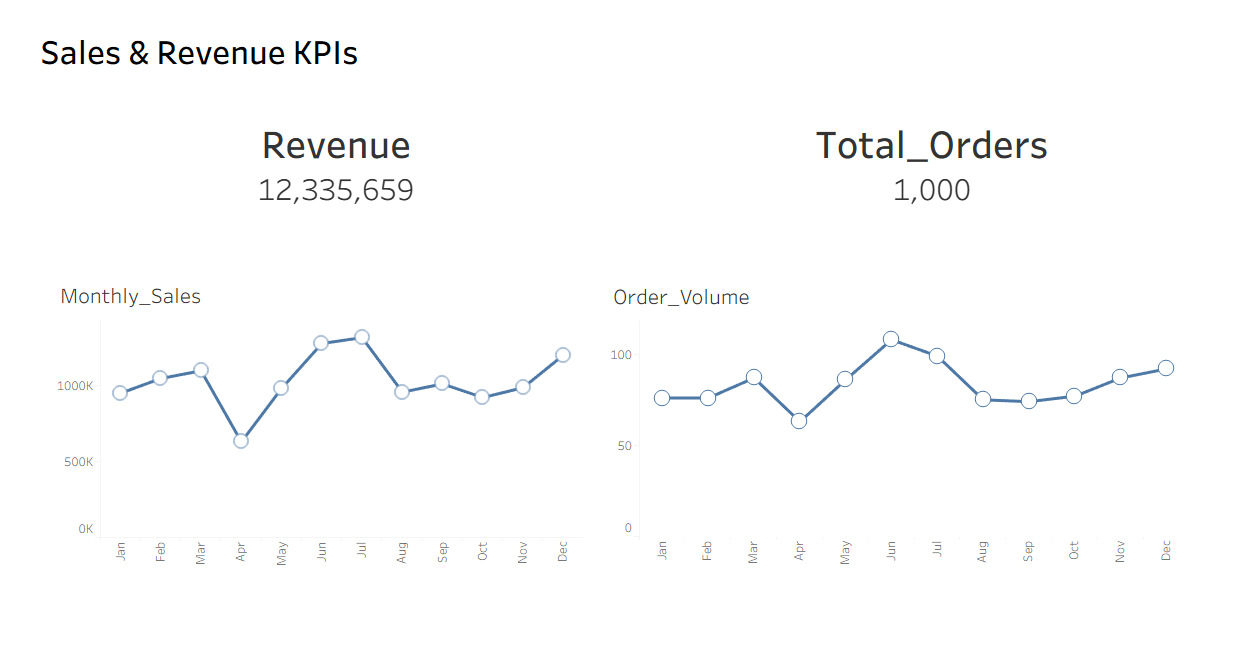

Layout of this report page (visuals, bound fields, positions):
{"tool":"tableau","page":{"name":"Dashboard 2","canvas":[1000,1000],"units":"permille","ordinal":0},"visuals":[{"type":"text","box":[1.7,0,1000,99.2]},{"type":"worksheet","title":"KPI_Total_Revenue","mark":"Automatic","box":[1.7,99.2,1000,134.2]},{"type":"worksheet","title":"Monthly_Sales","mark":"Automatic","rows":["revenue","revenue"],"cols":["date"],"box":[16.7,306.9,445.8,358.2]},{"type":"worksheet","title":"Order_Volume","mark":"Line","rows":["Calculation_1859569985519619","Calculation_1859569985519619"],"cols":["date"],"box":[477.5,308.1,490,355.9]}]}

Visuals, with their boxes on the dashboard's canvas, which has no fixed pixel size, in thousandths of its width and height (x1, y1, x2, y2). These are canvas units, not pixel positions in the 1239x649 screenshot, which may show the page scaled, cropped or inside an application window:
text: 2, 0, 1002, 99
"KPI_Total_Revenue" worksheet: 2, 99, 1002, 233
"Monthly_Sales" worksheet: 17, 307, 462, 665
"Order_Volume" worksheet (Line marks): 478, 308, 968, 664
